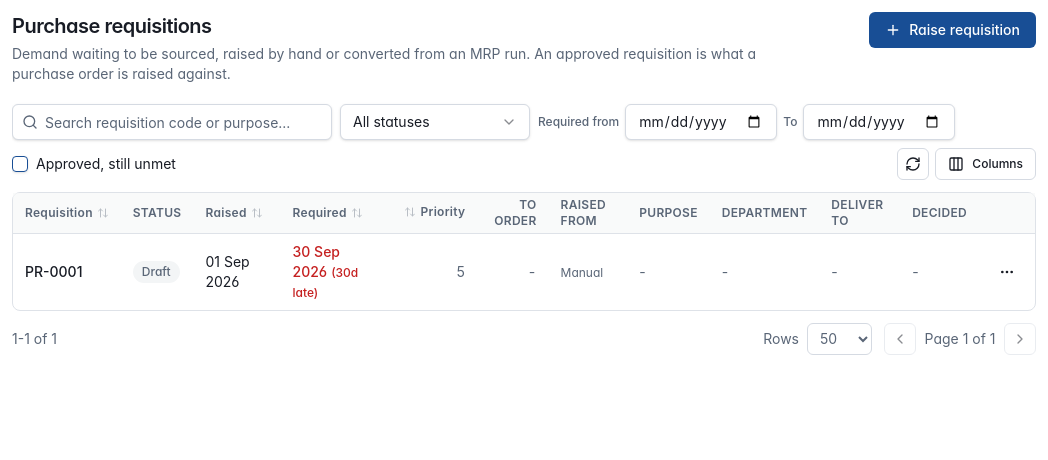
the state machine decides which commands exist › offers Submit on a draft and never Approve, however many rights are held
Click the button named "Actions for PR-0001". click: (1007, 272)
box: top-left (991, 256), bottom-right (1023, 288)
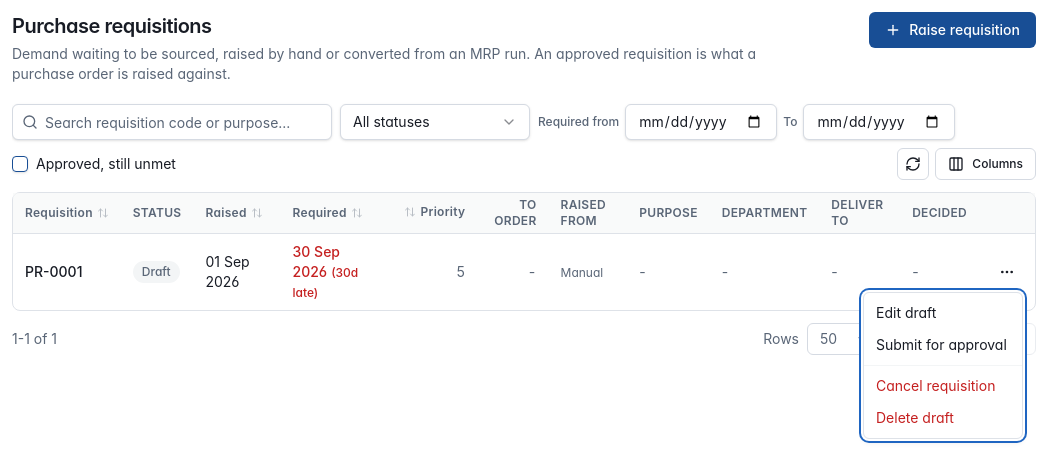
Check: the menu is shown, box top-left (863, 292), bottom-right (1023, 439)
Check: the menu item "Submit for approval" is shown, box top-left (876, 336), bottom-right (1007, 353)
Check: the menu item "Edit draft" is shown, box top-left (876, 304), bottom-right (936, 321)
